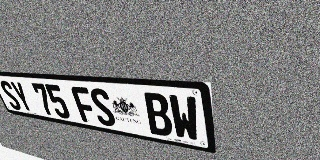5: (44, 84, 72, 119)
7: (30, 83, 57, 117)
B: (142, 92, 174, 138)
F: (70, 86, 99, 124)
S: (87, 88, 118, 128), (0, 80, 23, 111)
W: (168, 94, 201, 142)
Y: (9, 81, 35, 113)
